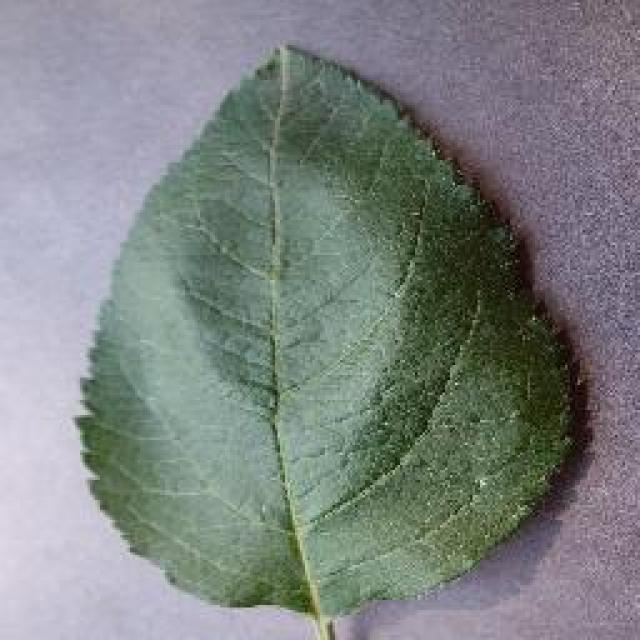apple healthy: (72, 40, 588, 638)
